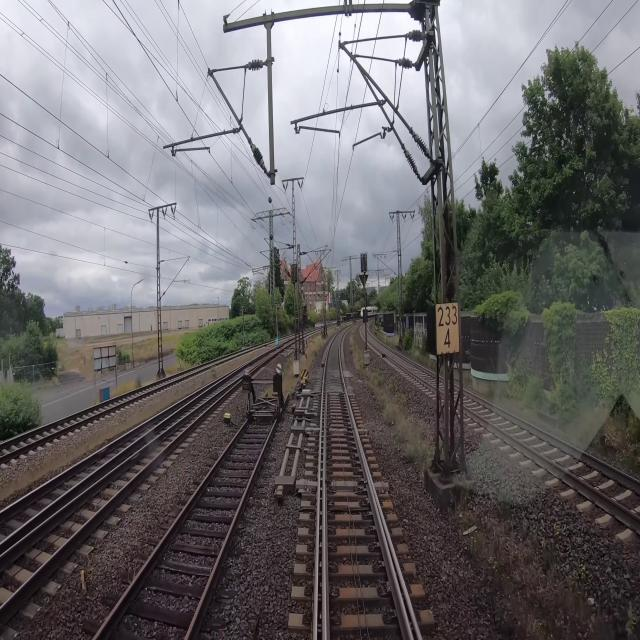Plant: (451, 469, 613, 639), (350, 328, 428, 475), (211, 367, 218, 377), (288, 386, 293, 396)
